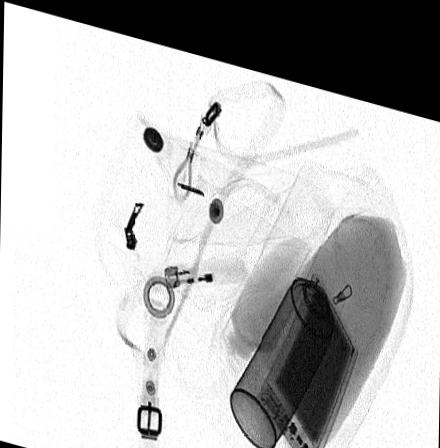Lighter: (162, 242, 248, 282)
Powerbank: (254, 257, 357, 448)
Sprayer: (229, 231, 346, 437)
